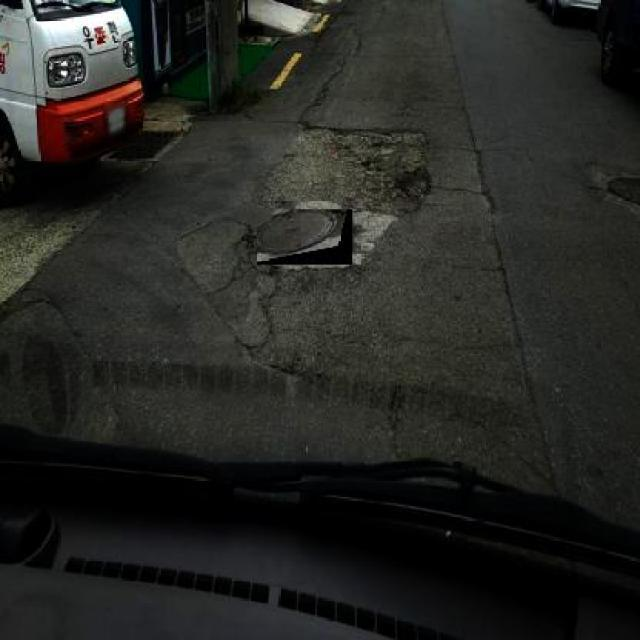Manhole: (258, 209, 354, 265)
Pothole: (12, 309, 84, 444), (362, 156, 468, 217), (326, 122, 468, 162), (591, 161, 640, 206)
